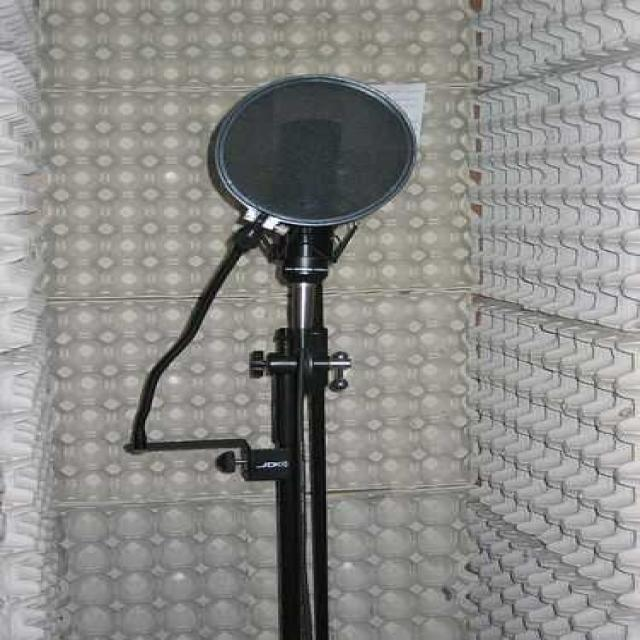microphone: (236, 72, 404, 328)
